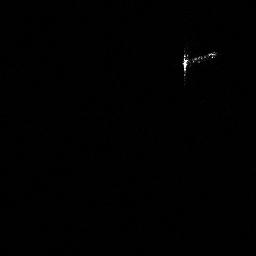ship: (183, 51, 217, 68)
